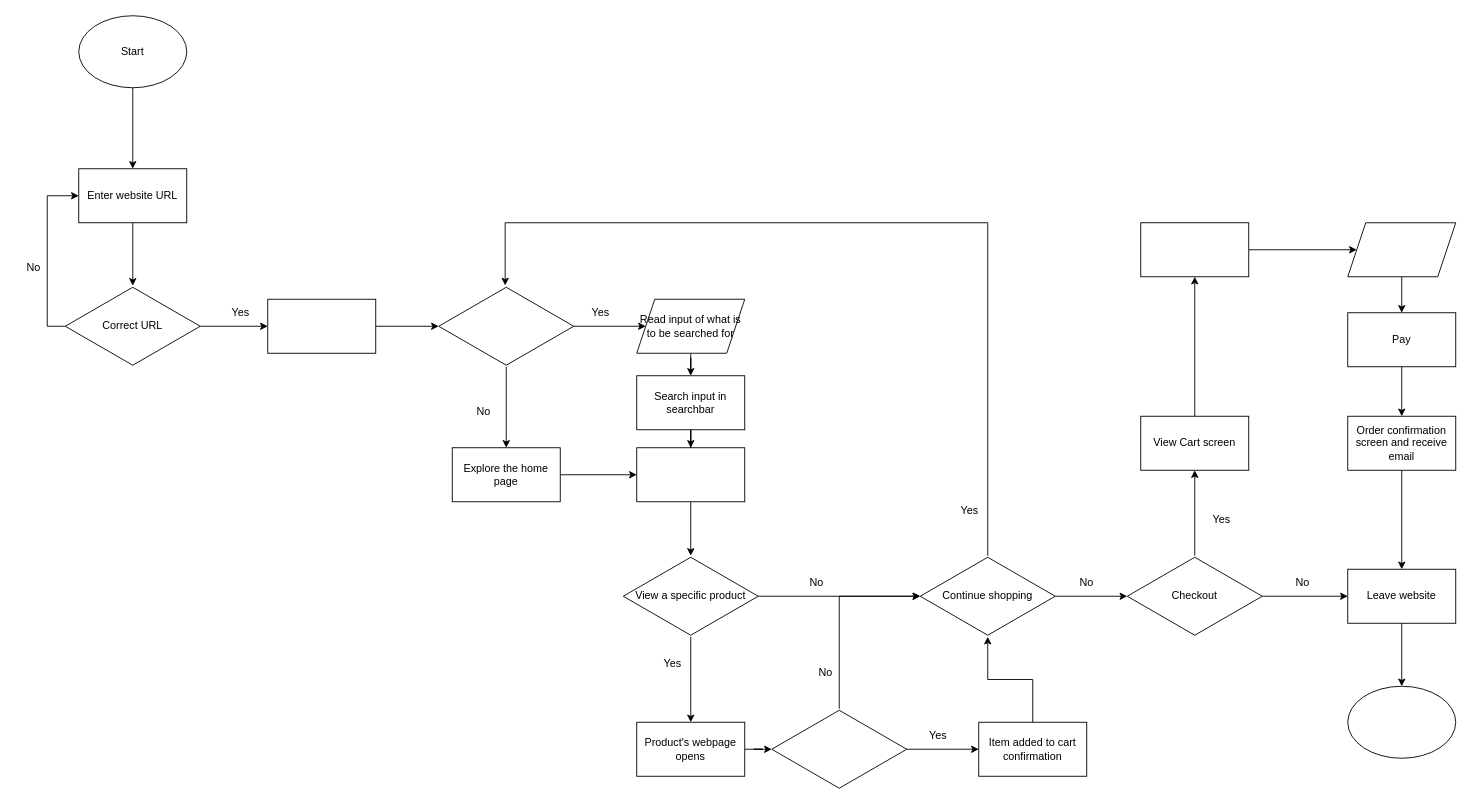
Some shapes in this 1472 by 806 pixel diagram are drawn without their labels. The centre of each missing label's shape, as x and y in pixels:
"Add item to cart" belongs at (839,749).
"End" belongs at (1401,721).
"Look over products" belongs at (690,474).
"Read payment information" belongs at (1401,249).
"Search for a product" belongs at (506,326).
"View Payment screen" belongs at (1194,249).
"Visit website" belongs at (321,325).
